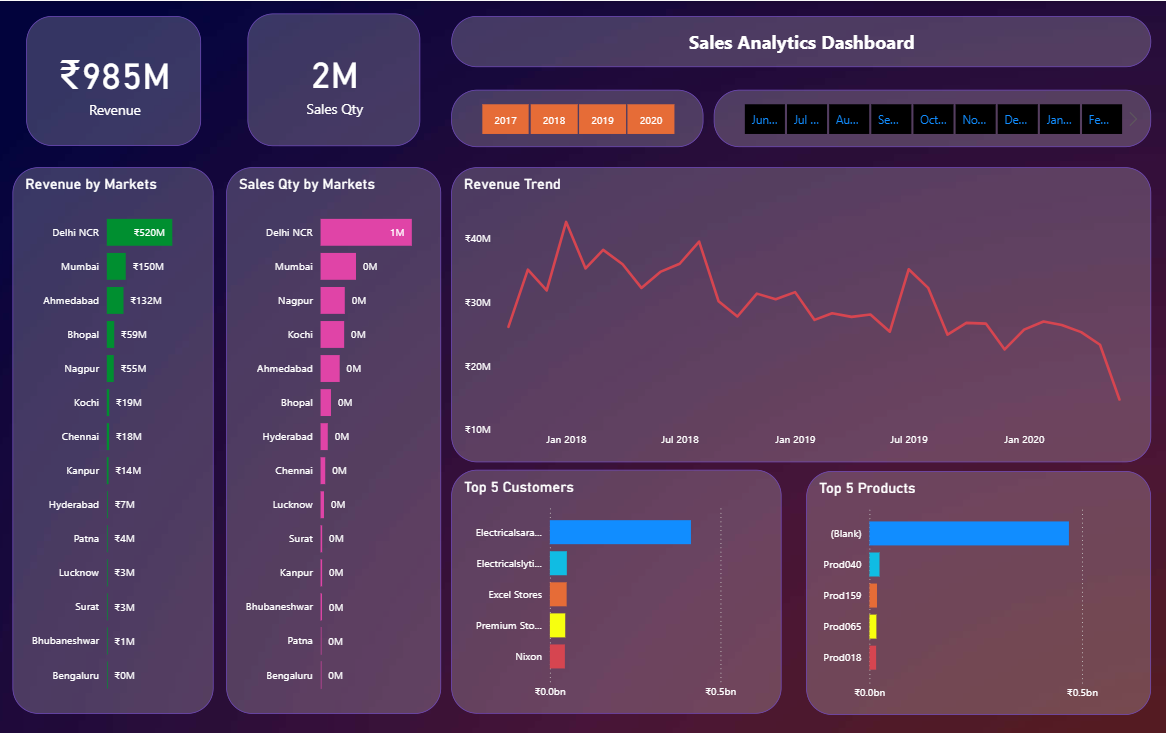

This screenshot's page, from the dashboard's own definition file:
{"tool":"powerbi","page":{"name":"Key Insights","canvas":[1350,850],"ordinal":0},"visuals":[{"type":"card","fields":{"Values":["BaseMeasures (2).Revenue"]},"box":[30.4,17.4,202.6,150.5],"z":0},{"type":"card","fields":{"Values":["BaseMeasures (2).Sales Qty"]},"box":[286.6,14.5,199.7,153.4],"z":1000},{"type":"barChart","title":"Revenue by Markets","fields":{"Y":["BaseMeasures (2).Revenue"],"Category":["sales markets.markets_name"]},"box":[14.5,192.5,233,632.5],"z":2000},{"type":"barChart","title":"Sales Qty by Markets","fields":{"Y":["BaseMeasures (2).Sales Qty"],"Category":["sales markets.markets_name"]},"box":[262,192.5,248.9,632.5],"z":3000},{"type":"slicer","fields":{"Values":["sales date.year"]},"box":[522.5,102.8,292.3,66.6],"z":4000},{"type":"slicer","fields":{"Values":["sales date.cy_date"]},"box":[826.4,102.8,506.5,66.6],"z":5000},{"type":"barChart","title":"Top 5 Customers","fields":{"Y":["BaseMeasures (2).Revenue"],"Category":["sales customers.custmer_name"]},"box":[522.5,542.7,382.1,282.2],"z":6000},{"type":"barChart","title":"Top 5 Products","fields":{"Y":["BaseMeasures (2).Revenue"],"Category":["sales products.product_code"]},"box":[933.5,544.2,399.4,282.2],"z":7000},{"type":"lineChart","title":"Revenue Trend","fields":{"Y":["BaseMeasures (2).Revenue"],"Category":["sales date.cy_date"]},"box":[522.5,192.5,810.5,341.6],"z":8000},{"type":"textbox","box":[522.5,17.4,810.5,59.3],"z":9000}]}

Visuals, with their boxes in screenshot pixels (x1, y1, x2, y2), scaled from the page's 1350x850 canvas onto the 1166x733 screenshot:
card - BaseMeasures (2).Revenue: (left=26, top=15, right=201, bottom=145)
card - BaseMeasures (2).Sales Qty: (left=248, top=13, right=420, bottom=145)
"Revenue by Markets" barChart: (left=13, top=166, right=214, bottom=711)
"Sales Qty by Markets" barChart: (left=226, top=166, right=441, bottom=711)
slicer - sales date.year: (left=451, top=89, right=704, bottom=146)
slicer - sales date.cy_date: (left=714, top=89, right=1151, bottom=146)
"Top 5 Customers" barChart: (left=451, top=468, right=781, bottom=711)
"Top 5 Products" barChart: (left=806, top=469, right=1151, bottom=713)
"Revenue Trend" lineChart: (left=451, top=166, right=1151, bottom=461)
textbox: (left=451, top=15, right=1151, bottom=66)
